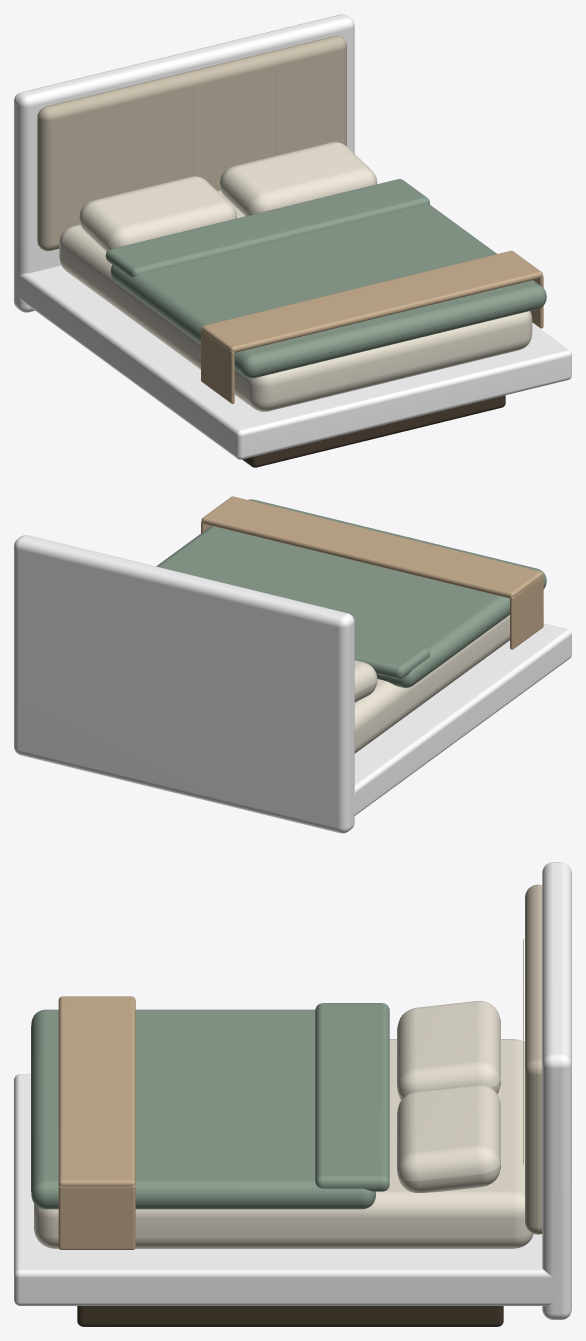
The model's file is bed.glb.
3 renders of one model, top to bottom at view 1: azimuth 30°, elevation 25°; view 2: azimuth 150°, elevation 25°; view 3: azimuth 270°, elevation 25°, orthographic. The views are drawn at different scales.
Visible parts, largest first — view 1: Upholstered inset headboard, Puffy eucalyptus duvet, Solid oak platform, Queen mattress, Solid oak headboard surround, Sand runner across foot, Turned back duvet cuff, Ivory sleeping pillow, Ivory sleeping pillow.001, Recessed floating plinth, Runner hanging edge; view 2: Solid oak headboard surround, Puffy eucalyptus duvet, Solid oak platform, Sand runner across foot, Queen mattress, Turned back duvet cuff, Runner hanging edge, Ivory sleeping pillow; view 3: Puffy eucalyptus duvet, Solid oak platform, Queen mattress, Sand runner across foot, Turned back duvet cuff, Solid oak headboard surround, Ivory sleeping pillow.001, Recessed floating plinth, Ivory sleeping pillow, Upholstered inset headboard, Runner hanging edge.001.
Part boxes in pixels (left/top/right/bottom): Upholstered inset headboard: left=37, top=35, right=346, bottom=251; Puffy eucalyptus duvet: left=110, top=204, right=546, bottom=378; Solid oak platform: left=14, top=265, right=571, bottom=459; Queen mattress: left=59, top=190, right=532, bottom=411; Solid oak headboard surround: left=14, top=14, right=354, bottom=312; Sand runner across foot: left=201, top=250, right=542, bottom=352; Turned back duvet cuff: left=105, top=179, right=429, bottom=277; Ivory sleeping pillow: left=79, top=176, right=236, bottom=251; Ivory sleeping pillow.001: left=220, top=142, right=377, bottom=216; Recessed floating plinth: left=242, top=395, right=505, bottom=467; Runner hanging edge: left=201, top=329, right=234, bottom=403; Solid oak headboard surround: left=14, top=535, right=354, bottom=833; Puffy eucalyptus duvet: left=156, top=499, right=546, bottom=687; Solid oak platform: left=350, top=623, right=571, bottom=815; Sand runner across foot: left=201, top=496, right=542, bottom=598; Queen mattress: left=354, top=615, right=509, bottom=753; Turned back duvet cuff: left=354, top=630, right=429, bottom=678; Runner hanging edge: left=510, top=575, right=543, bottom=649; Ivory sleeping pillow: left=354, top=660, right=377, bottom=702; Puffy eucalyptus duvet: left=31, top=1009, right=375, bottom=1209; Solid oak platform: left=14, top=1074, right=562, bottom=1305; Queen mattress: left=34, top=1039, right=533, bottom=1248; Sand runner across foot: left=58, top=996, right=135, bottom=1186; Turned back duvet cuff: left=315, top=1003, right=389, bottom=1191; Solid oak headboard surround: left=542, top=862, right=571, bottom=1319; Ivory sleeping pillow.001: left=397, top=1084, right=500, bottom=1192; Recessed floating plinth: left=77, top=1306, right=503, bottom=1326; Ivory sleeping pillow: left=397, top=1001, right=500, bottom=1100; Upholstered inset headboard: left=525, top=884, right=542, bottom=1234; Runner hanging edge.001: left=58, top=1185, right=135, bottom=1249.
Size of the model in its own units: 1.91 by 1.31 by 2.25.
